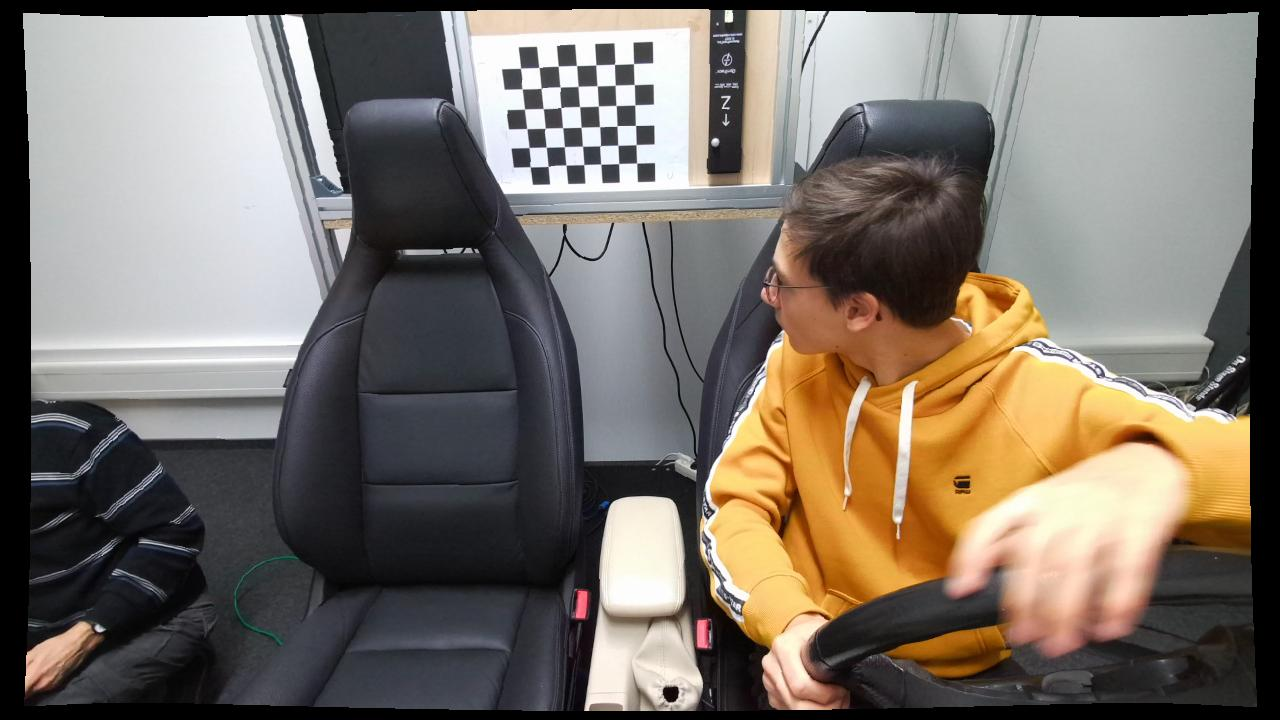Distracted: (695, 150, 1105, 711)
